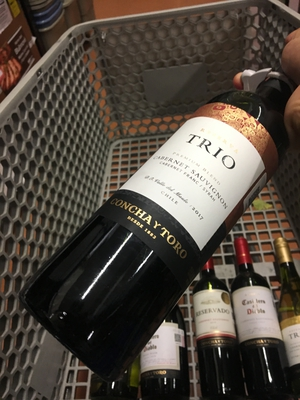trio cabernet sauvignon: (103, 81, 278, 300)
